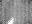person: (7, 15, 13, 24)
